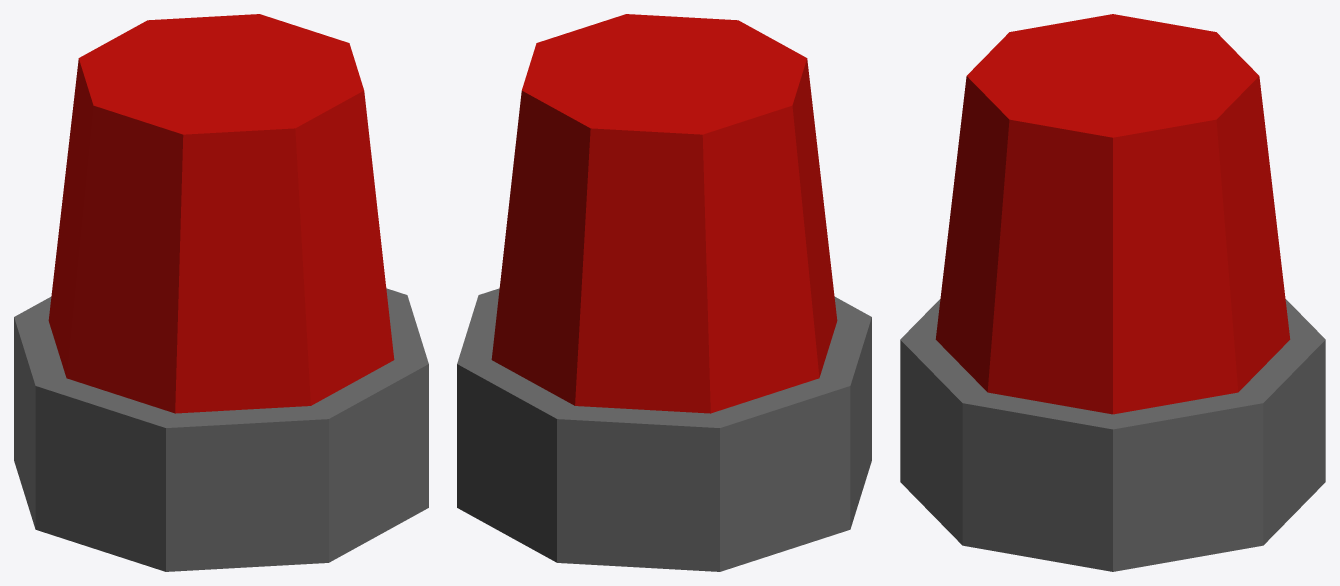
File: P_Siren.fbx
The picture shows the model from 3 angles, left to right: view 1: azimuth 30°, elevation 25°; view 2: azimuth 150°, elevation 25°; view 3: azimuth 270°, elevation 25°; orthographic projection.
Parts seen in each view (by area): view 1: P_Siren; view 2: P_Siren; view 3: P_Siren.
Boxes of the visible parts, bbox=[...] form: P_Siren: bbox=[14, 14, 428, 571]; P_Siren: bbox=[457, 14, 871, 571]; P_Siren: bbox=[900, 14, 1325, 571].
Bounding box in the file's own units: 80.14 × 80.14 × 84.42.
